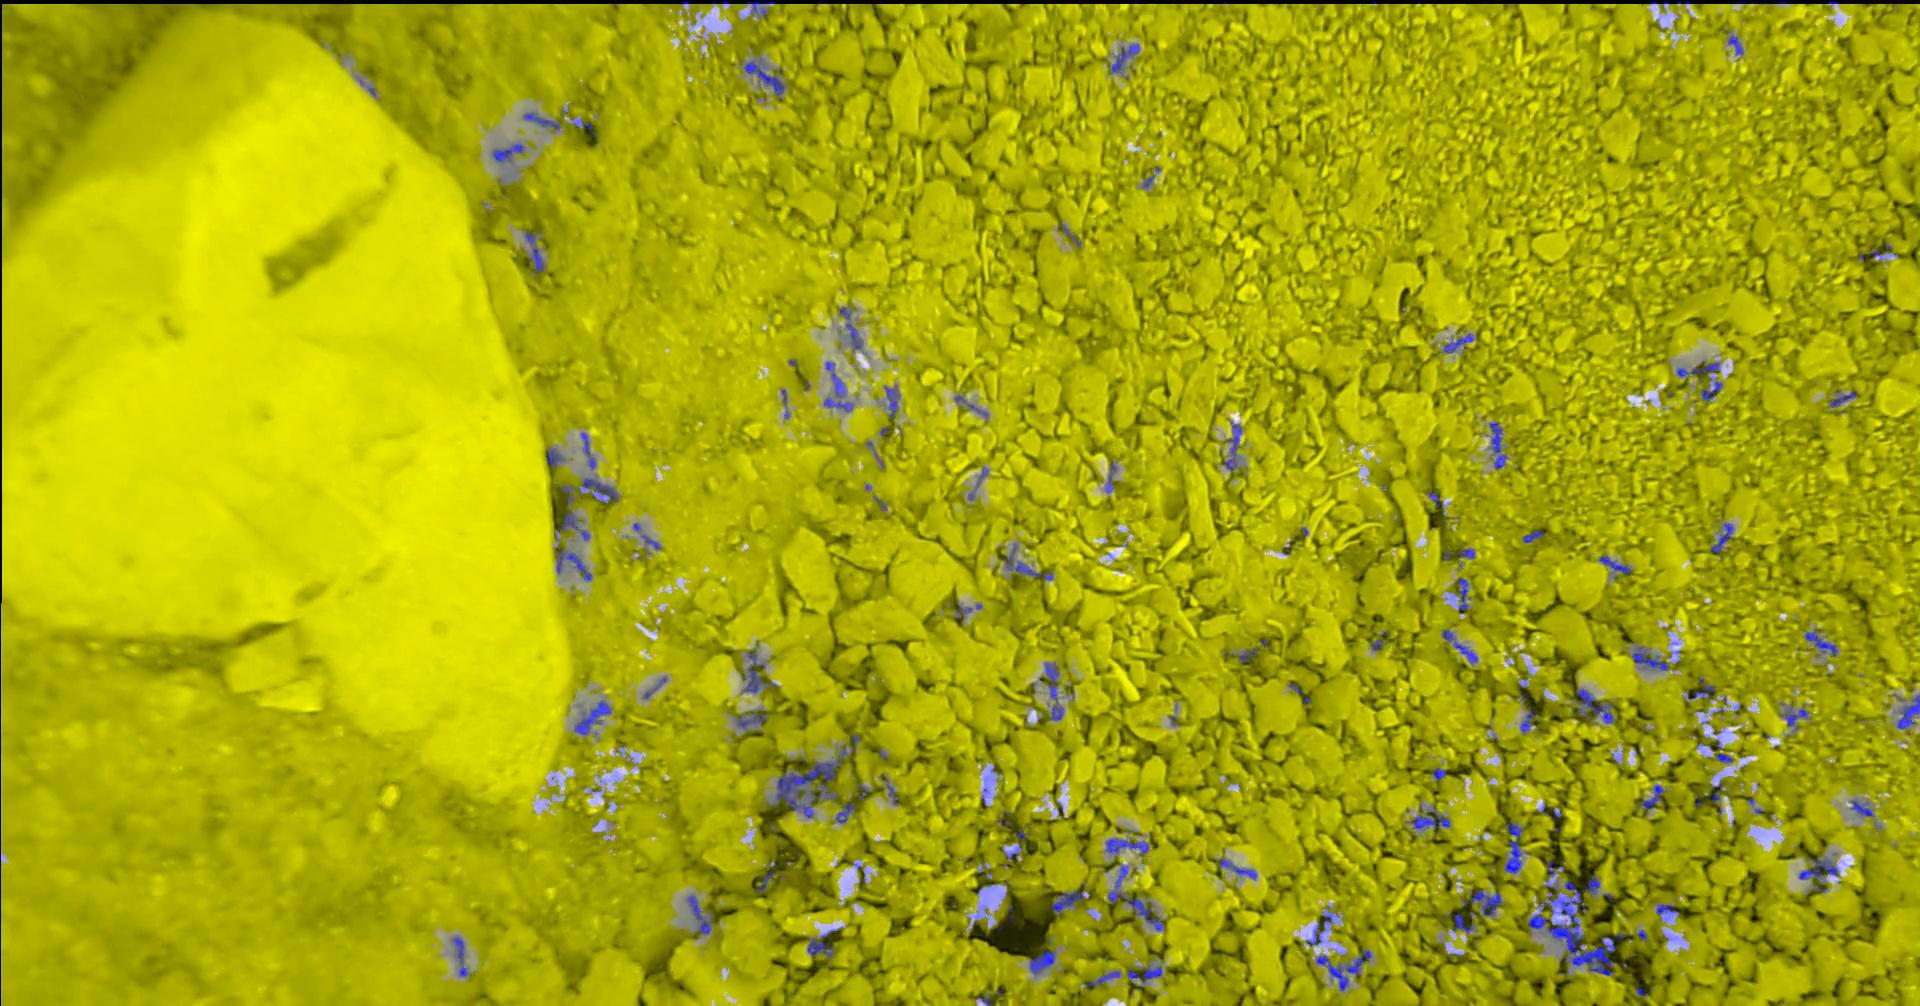ant: (1107, 865, 1164, 930), (1316, 949, 1371, 989), (1004, 545, 1051, 579), (743, 61, 783, 99), (1576, 688, 1613, 723), (574, 700, 610, 734), (1441, 629, 1477, 662), (555, 549, 590, 580), (1044, 662, 1063, 719), (1462, 889, 1501, 915), (1503, 821, 1523, 873), (743, 649, 764, 692), (582, 478, 617, 503), (1804, 629, 1837, 655), (1676, 361, 1719, 381), (1630, 647, 1669, 669), (687, 895, 710, 934), (808, 929, 838, 956), (1217, 857, 1256, 879), (1798, 857, 1837, 879), (1412, 807, 1449, 829), (839, 307, 860, 348), (1109, 44, 1138, 72), (1896, 694, 1919, 728), (1490, 422, 1506, 469), (1224, 424, 1241, 471), (1051, 890, 1083, 915), (1684, 677, 1714, 700), (1597, 555, 1630, 575), (1105, 838, 1148, 854), (1710, 523, 1732, 553), (1639, 785, 1663, 810), (1029, 950, 1054, 974), (523, 112, 559, 128), (1443, 333, 1473, 352), (1126, 967, 1161, 983), (1084, 970, 1119, 987), (555, 508, 579, 531), (491, 144, 522, 161), (737, 709, 767, 727), (1780, 708, 1808, 727), (756, 862, 775, 890), (453, 936, 466, 976), (1457, 578, 1469, 614), (1520, 708, 1538, 733), (955, 603, 982, 619), (884, 386, 897, 418), (1830, 391, 1855, 406), (836, 801, 855, 822), (1702, 381, 1721, 400), (1451, 913, 1472, 931), (823, 398, 851, 410), (1305, 923, 1322, 944), (745, 0, 775, 11), (1850, 800, 1872, 815), (1429, 492, 1443, 514), (830, 372, 843, 396), (545, 448, 560, 467), (532, 246, 543, 271), (1728, 36, 1742, 55), (1656, 903, 1679, 915), (1106, 462, 1115, 492), (1523, 530, 1543, 542), (1583, 875, 1599, 892), (1238, 648, 1256, 662), (1710, 781, 1722, 801), (1716, 752, 1733, 762), (1432, 767, 1446, 780), (1458, 547, 1474, 558)
